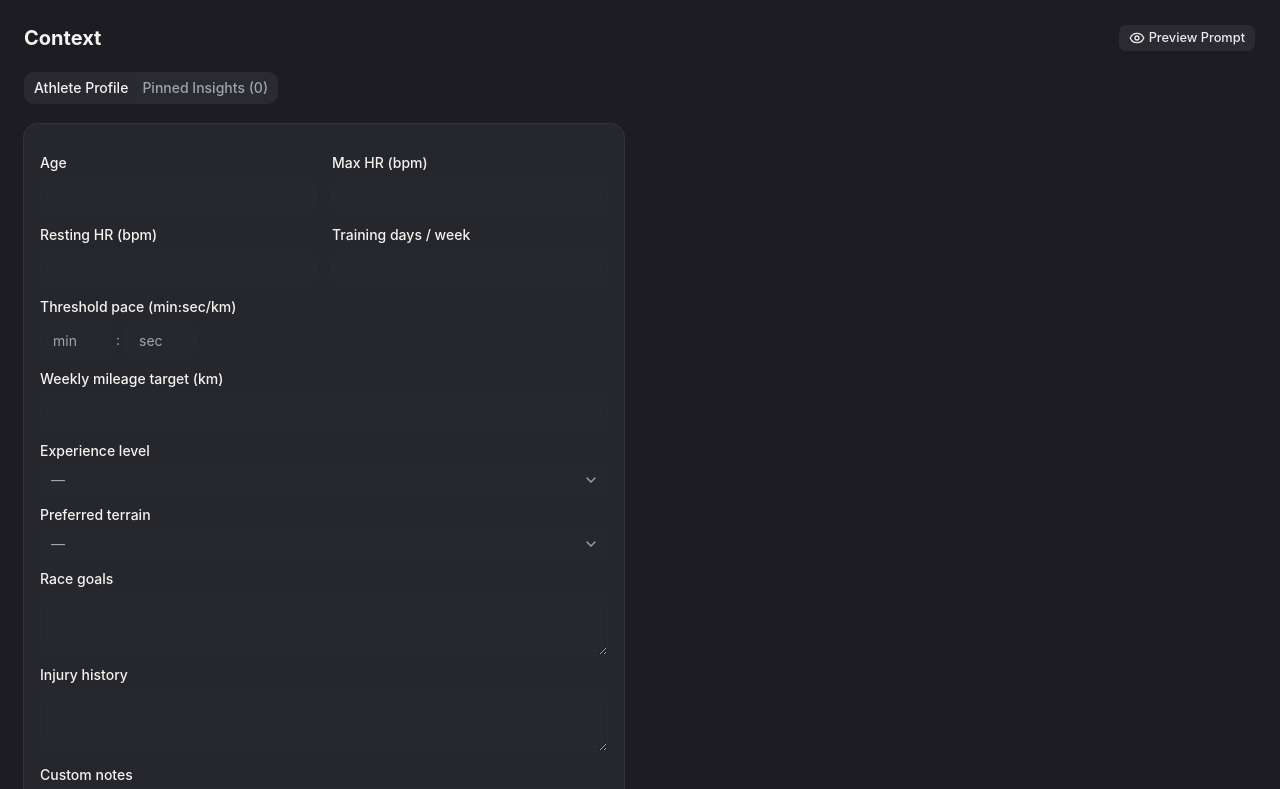
it: Context › shows empty state message when no insights exist
Click the tab "Pinned Insights (0)" at (205, 88), box top-left (135, 76), bottom-right (275, 100)
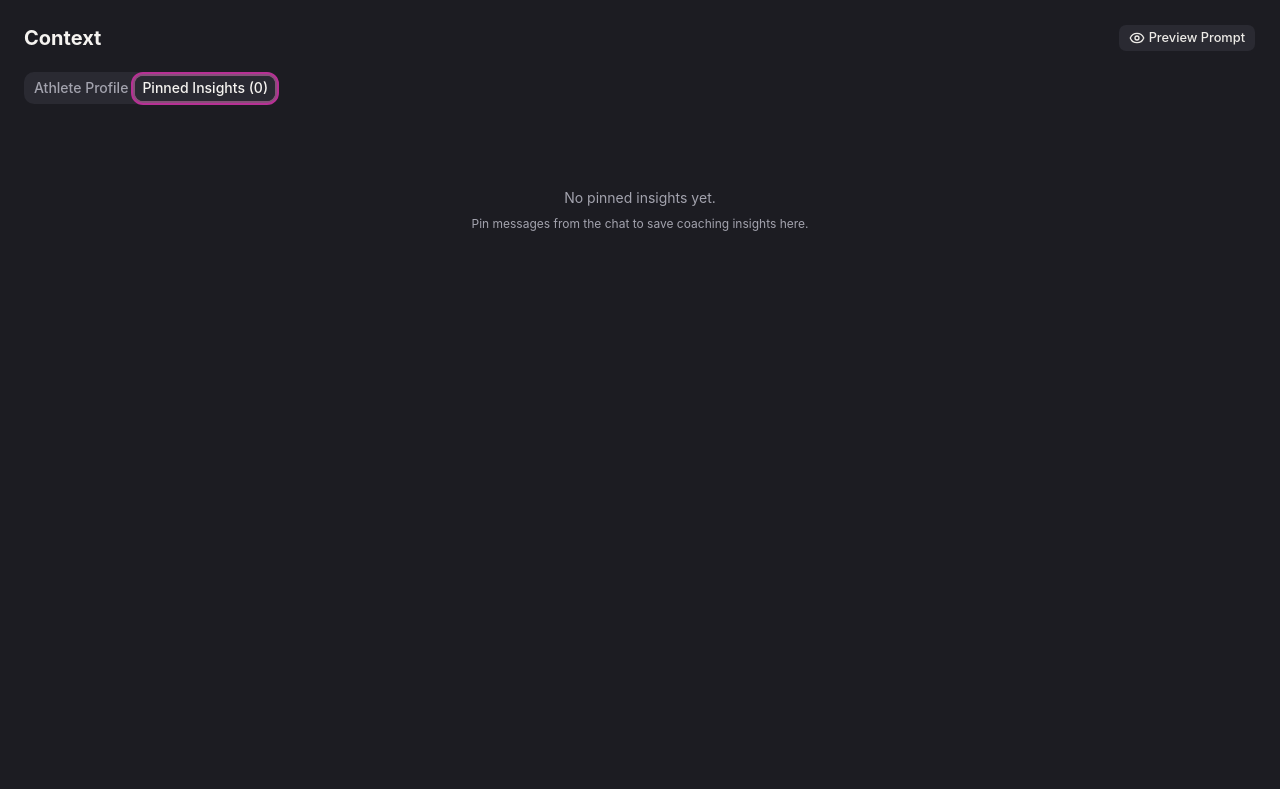
Check: the text "No pinned insights yet." is shown, box top-left (564, 188), bottom-right (716, 208)
